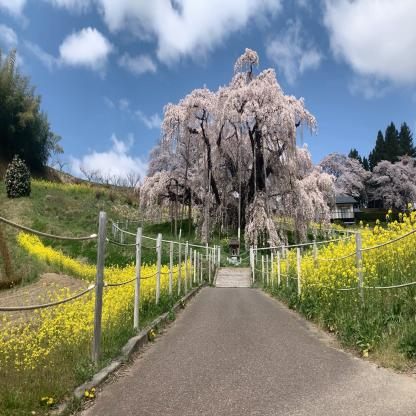ShidareZakura: (139, 46, 336, 253), (317, 150, 367, 212), (367, 150, 416, 213)
